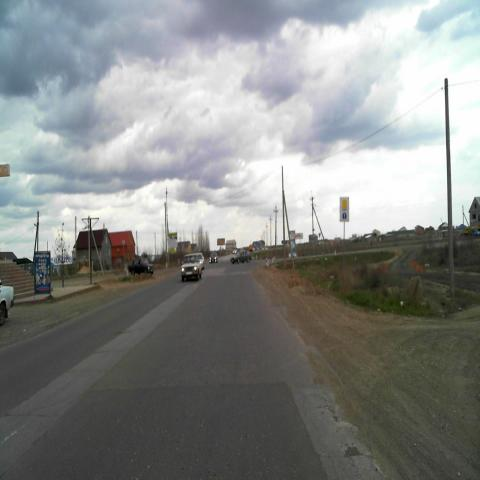4_8_2: (340, 196, 348, 222)
